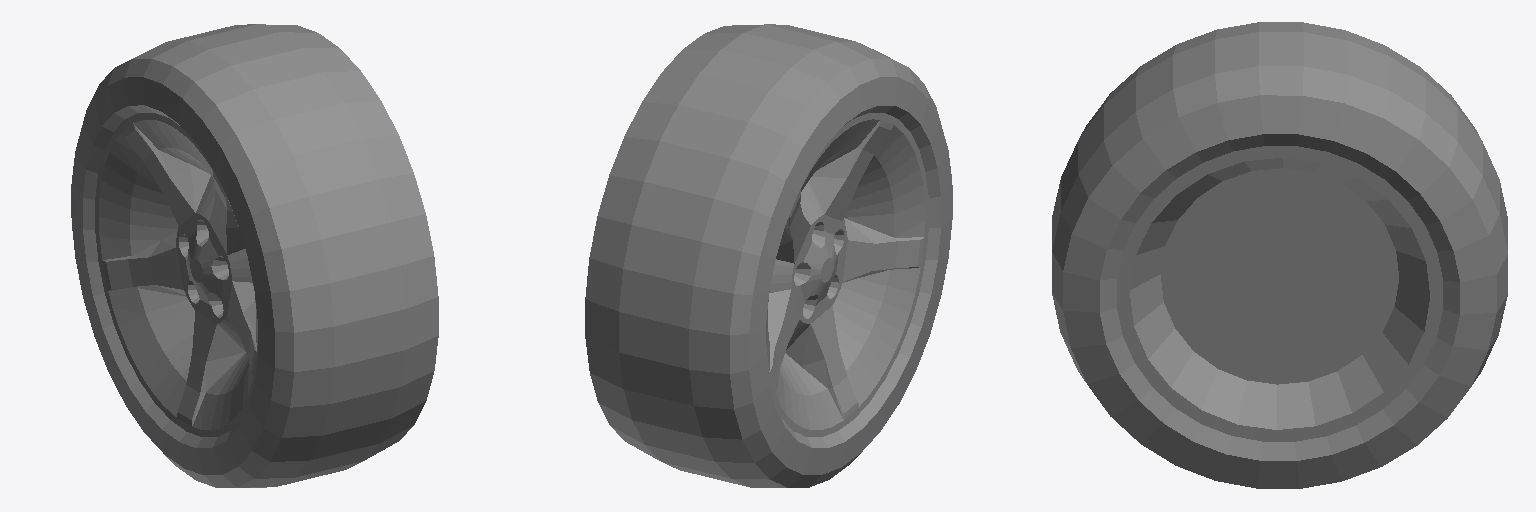
Rendered from Wheel22.obj.
3 renders of one model, left to right at view 1: azimuth 30°, elevation 25°; view 2: azimuth 150°, elevation 25°; view 3: azimuth 270°, elevation 25°, orthographic.
Parts seen in each view (by area): view 1: BTechFix; view 2: BTechFix; view 3: BTechFix.
Boxes of the visible parts, box(x1,y1,x2,y2) form: BTechFix: box(71, 24, 438, 487); BTechFix: box(585, 24, 952, 487); BTechFix: box(1052, 22, 1507, 488).
Bounding box in the file's own units: 35.25 × 81.44 × 81.44.